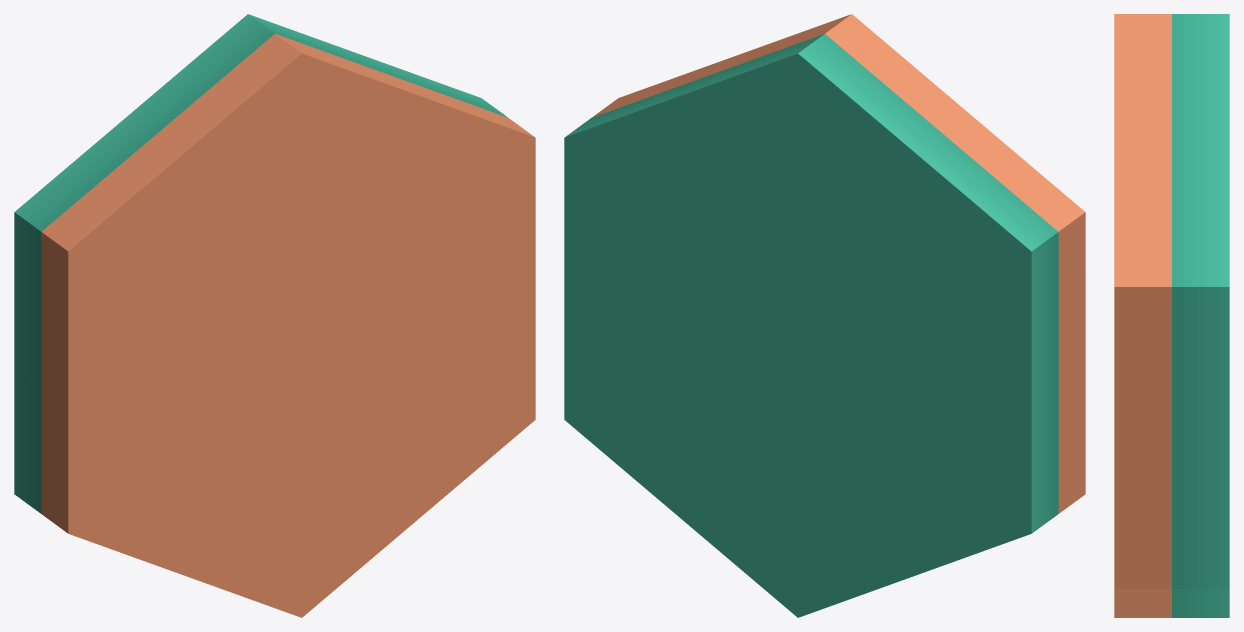
The model's file is grass.obj.
3 views of the same model, side by side, from view 1: azimuth 30°, elevation 25°; view 2: azimuth 150°, elevation 25°; view 3: azimuth 270°, elevation 25° (orthographic). The views are drawn at different scales.
Visible parts, largest first — view 1: grass.042; view 2: grass.042; view 3: grass.042.
Boxes of the visible parts, x1=… form: grass.042: x1=14, y1=14, x2=535, y2=617; grass.042: x1=564, y1=14, x2=1085, y2=617; grass.042: x1=1114, y1=14, x2=1229, y2=617.
Size of the model in its own units: 1 by 1.15 by 0.2.
1 material, 1 textured.
